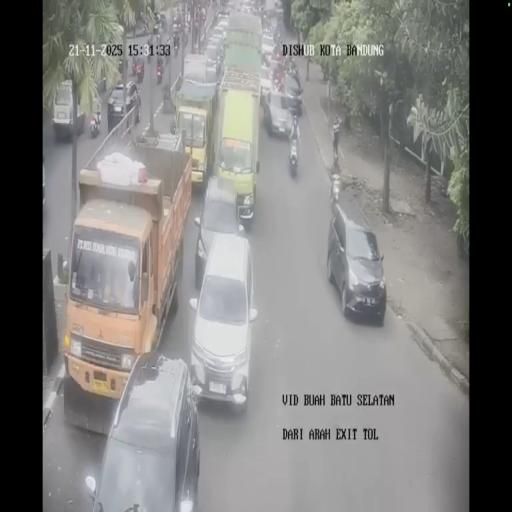3: (63, 135, 191, 416), (211, 76, 261, 223), (172, 64, 219, 192)
car: (188, 232, 258, 408), (328, 196, 386, 320), (52, 81, 88, 141), (262, 86, 298, 138), (107, 81, 141, 133), (204, 40, 224, 79), (260, 36, 276, 82), (216, 11, 230, 30), (240, 0, 253, 14), (226, 0, 236, 13), (274, 0, 283, 12)
truck: (271, 61, 285, 91), (89, 106, 101, 138), (290, 138, 298, 174), (133, 57, 144, 81), (172, 27, 181, 53), (164, 38, 172, 65), (286, 54, 297, 73), (260, 7, 269, 29), (146, 38, 153, 62), (156, 60, 163, 84), (116, 55, 124, 75), (159, 13, 167, 32), (272, 26, 280, 44), (183, 13, 190, 33), (155, 29, 161, 52), (142, 22, 150, 36), (182, 29, 188, 46)
